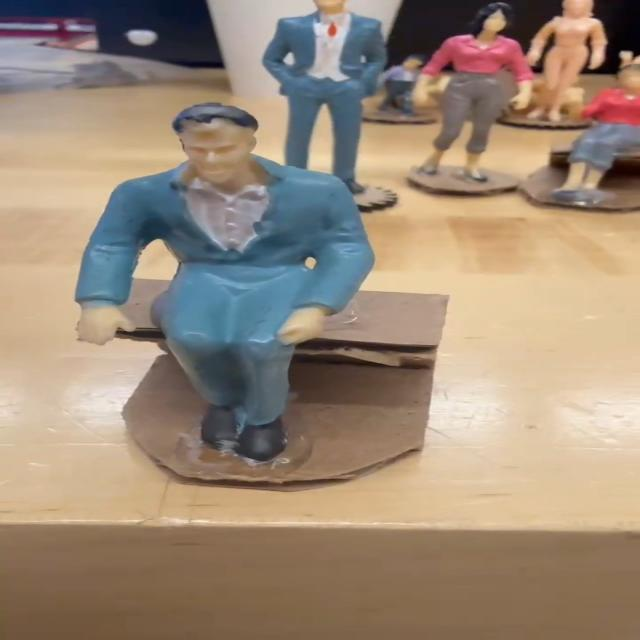Authorized: (34, 93, 456, 479)
